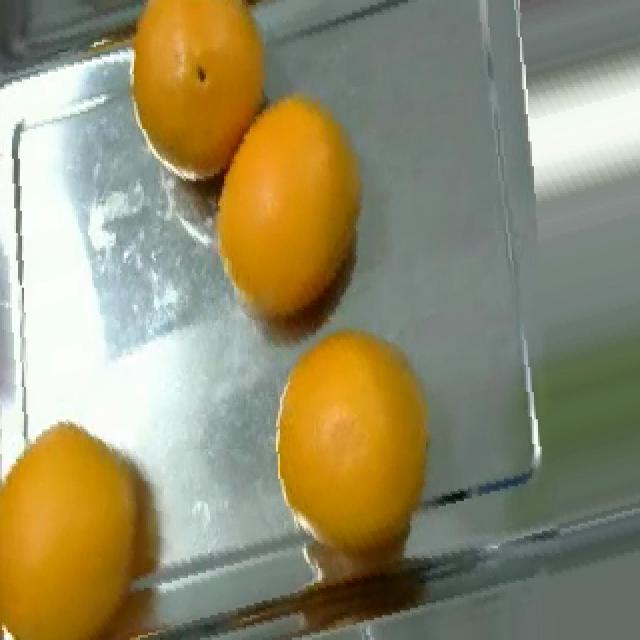Fruit: (110, 0, 292, 206)
